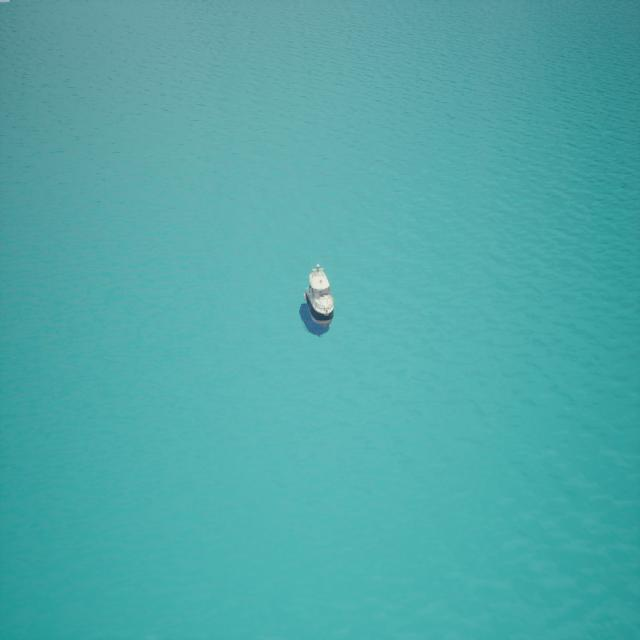ship: (302, 255, 335, 332)
